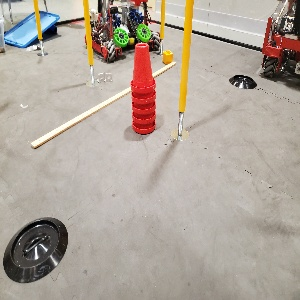Red_5: (130, 40, 156, 134)
